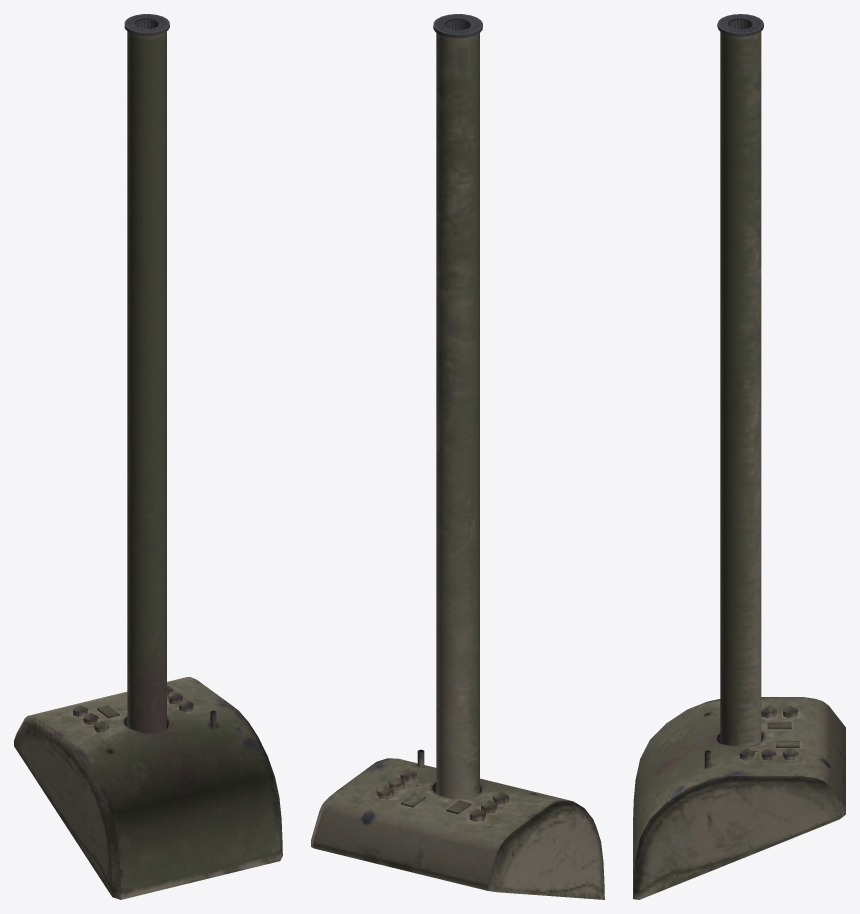
File: Gun_07.glb
The picture shows the model from 3 angles, left to right: view 1: azimuth 30°, elevation 25°; view 2: azimuth 150°, elevation 25°; view 3: azimuth 270°, elevation 25°; orthographic projection. The views are drawn at different scales.
Visible parts, largest first — view 1: set_0_group_0; view 2: set_0_group_0; view 3: set_0_group_0.
Part boxes in pixels (x1,y1,x2,y2): set_0_group_0: (14, 14, 282, 899); set_0_group_0: (311, 14, 604, 899); set_0_group_0: (633, 14, 845, 899).
Size of the model in its own units: 0.7138 by 3.27 by 0.756.
1 material, 1 textured.
